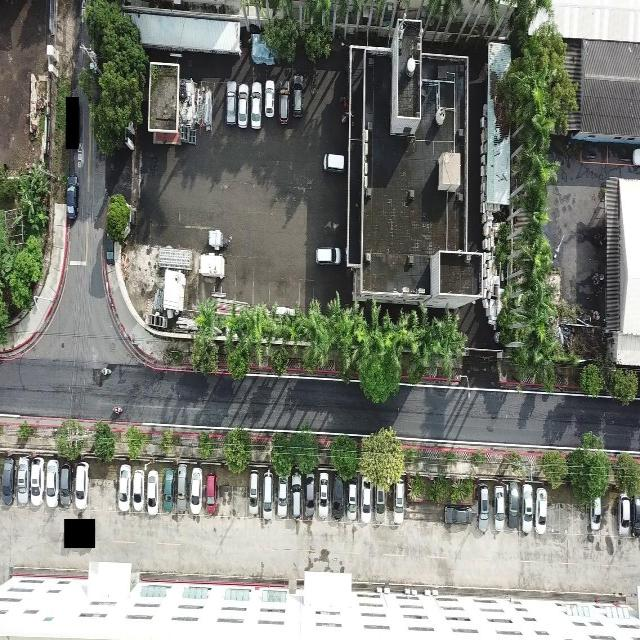bike: (100, 365, 112, 378), (112, 404, 123, 415)
car: (227, 80, 251, 130), (187, 466, 203, 518), (73, 462, 89, 512), (262, 470, 276, 525), (442, 502, 474, 526), (116, 464, 131, 515), (44, 457, 59, 508), (30, 455, 44, 508), (65, 172, 79, 222), (291, 73, 306, 119), (250, 81, 264, 130), (522, 483, 535, 535), (16, 455, 29, 507), (2, 456, 15, 508), (146, 467, 160, 515), (290, 470, 303, 520), (509, 482, 522, 532), (204, 471, 218, 517), (305, 472, 318, 521), (176, 465, 188, 518), (277, 472, 290, 520), (164, 466, 177, 514), (317, 245, 345, 267), (619, 494, 633, 538), (132, 469, 145, 516), (479, 484, 491, 534), (248, 468, 260, 518), (536, 486, 548, 536), (60, 459, 72, 509), (392, 482, 405, 528), (334, 474, 346, 523), (494, 484, 506, 532), (361, 476, 373, 524), (265, 80, 279, 120), (278, 80, 290, 124), (319, 469, 330, 513), (324, 154, 348, 174), (348, 481, 359, 523), (592, 495, 603, 532), (377, 481, 386, 526), (634, 494, 640, 536)
